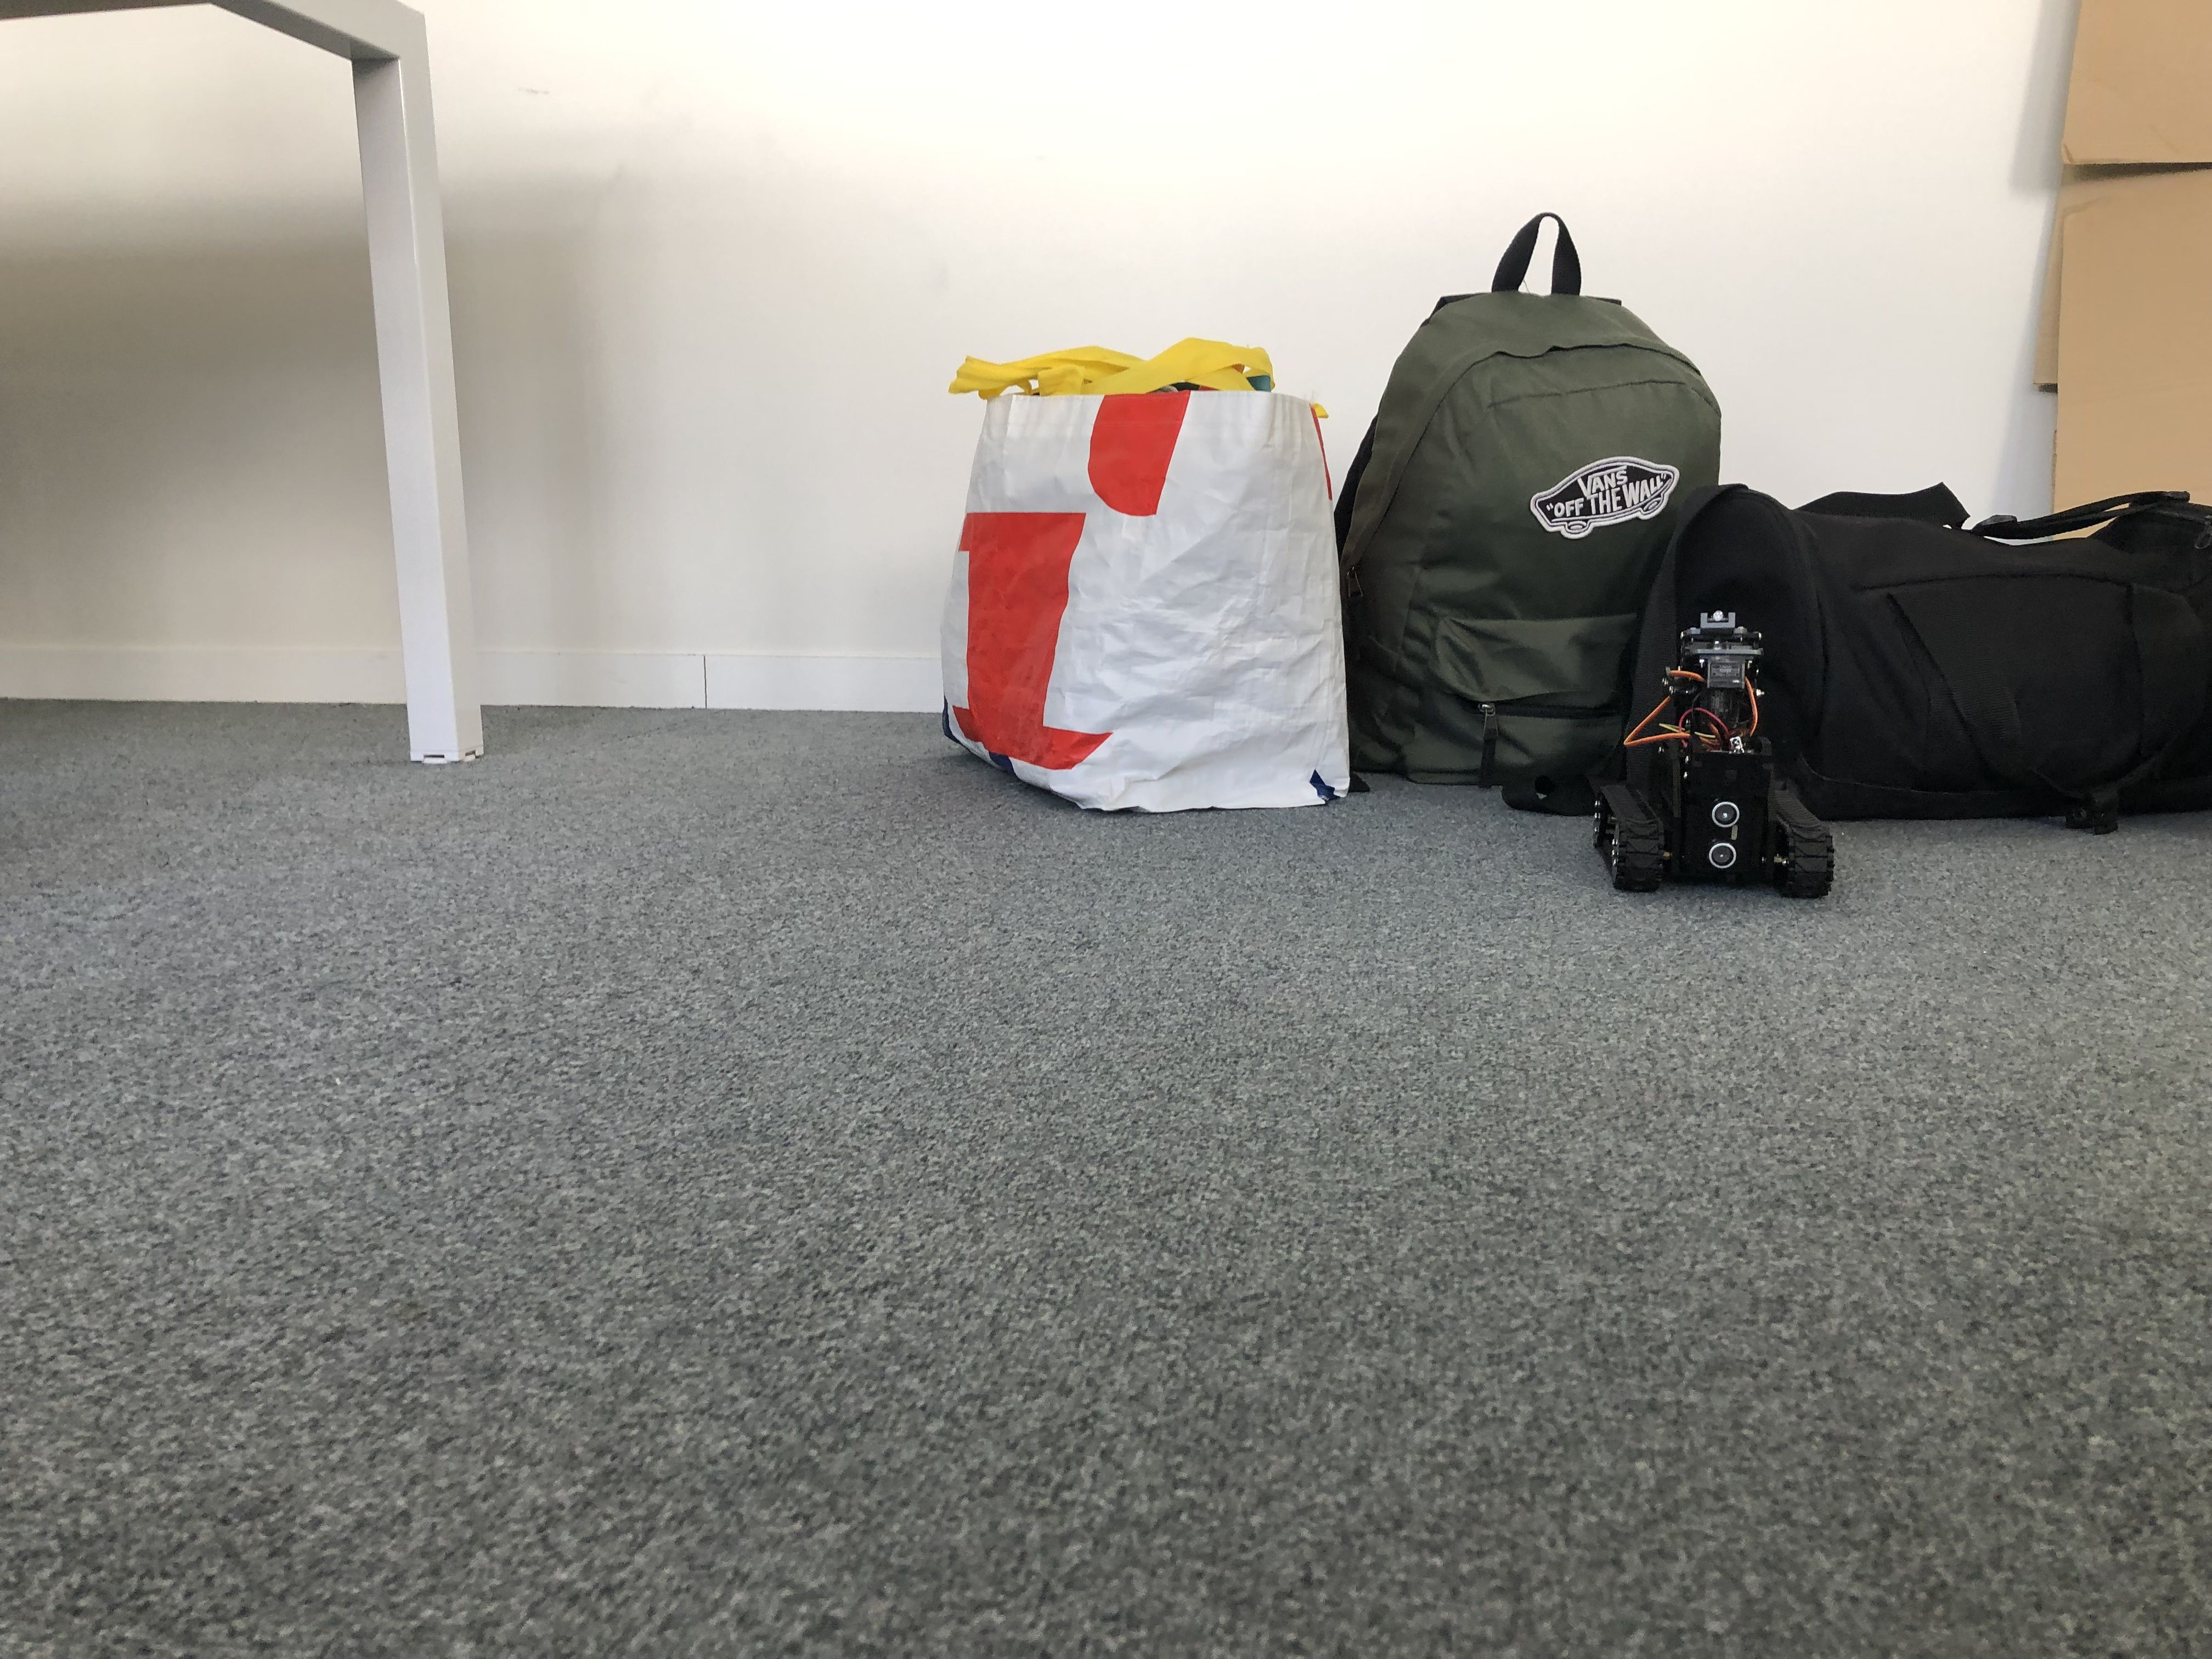rasptank: (1595, 605, 1841, 894)
